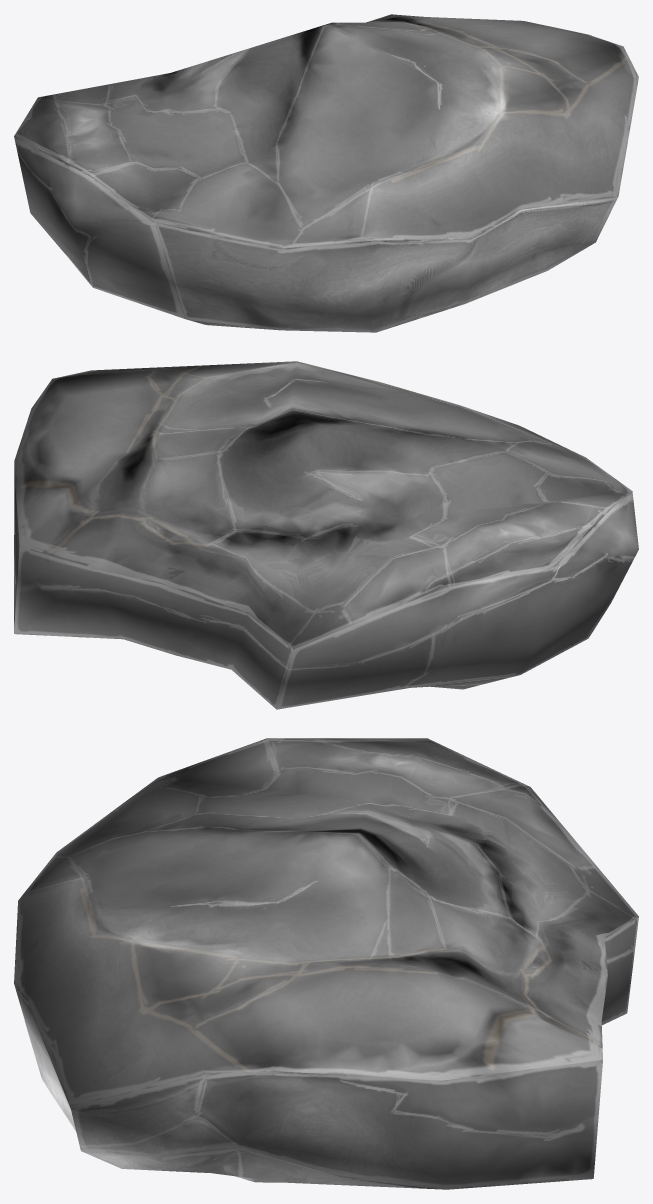
The model's file is rock_6.fbx.
3 renders of one model, top to bottom at view 1: azimuth 30°, elevation 25°; view 2: azimuth 150°, elevation 25°; view 3: azimuth 270°, elevation 25°, orthographic. The views are drawn at different scales.
Visible parts, largest first — view 1: rock_6; view 2: rock_6; view 3: rock_6.
Part boxes in pixels (bbox=[...]): rock_6: bbox=[14, 14, 638, 332]; rock_6: bbox=[14, 361, 638, 709]; rock_6: bbox=[14, 738, 638, 1189].
Size of the model in its own units: 3.41 by 1.36 by 2.64.
